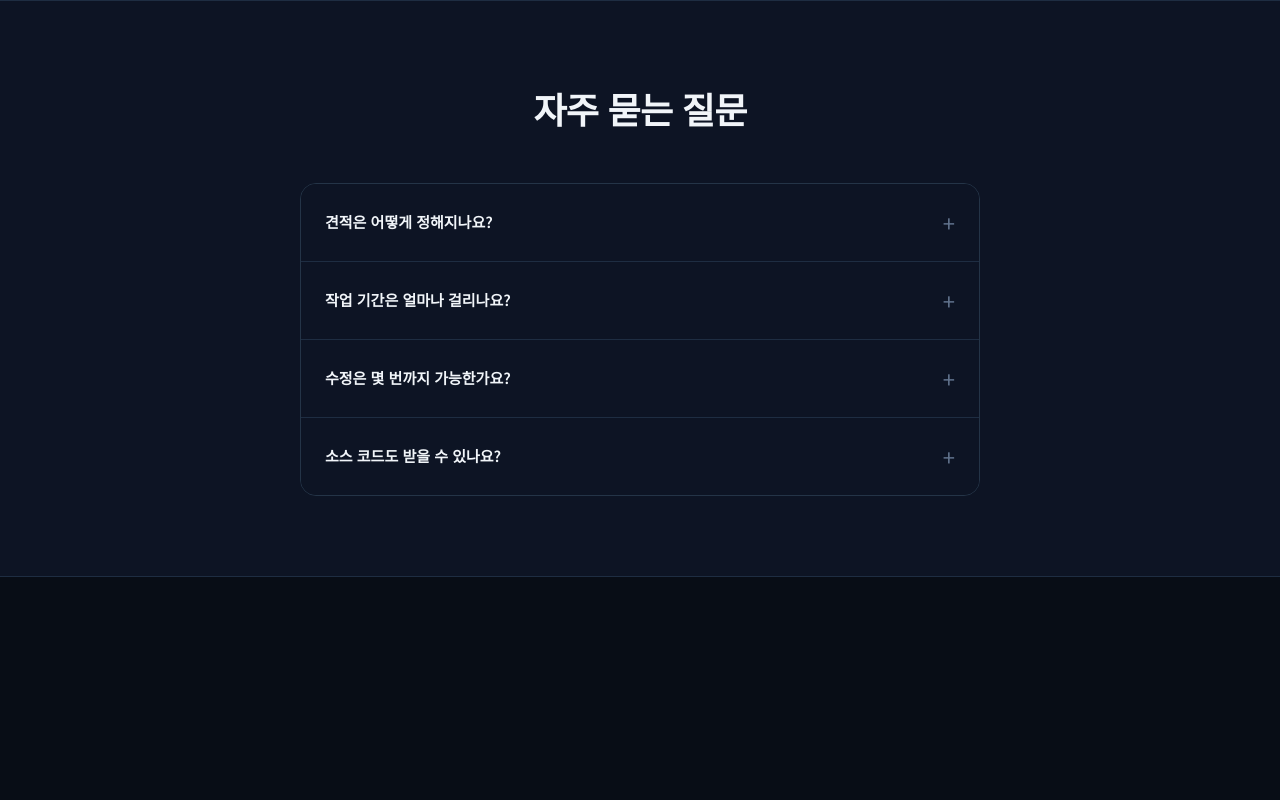
it: FaqSection › 다른 질문을 열면 이전 질문은 닫힌다
Click the text "견적은 어떻게 정해지나요?" at (409, 223), box [325,211,493,234]
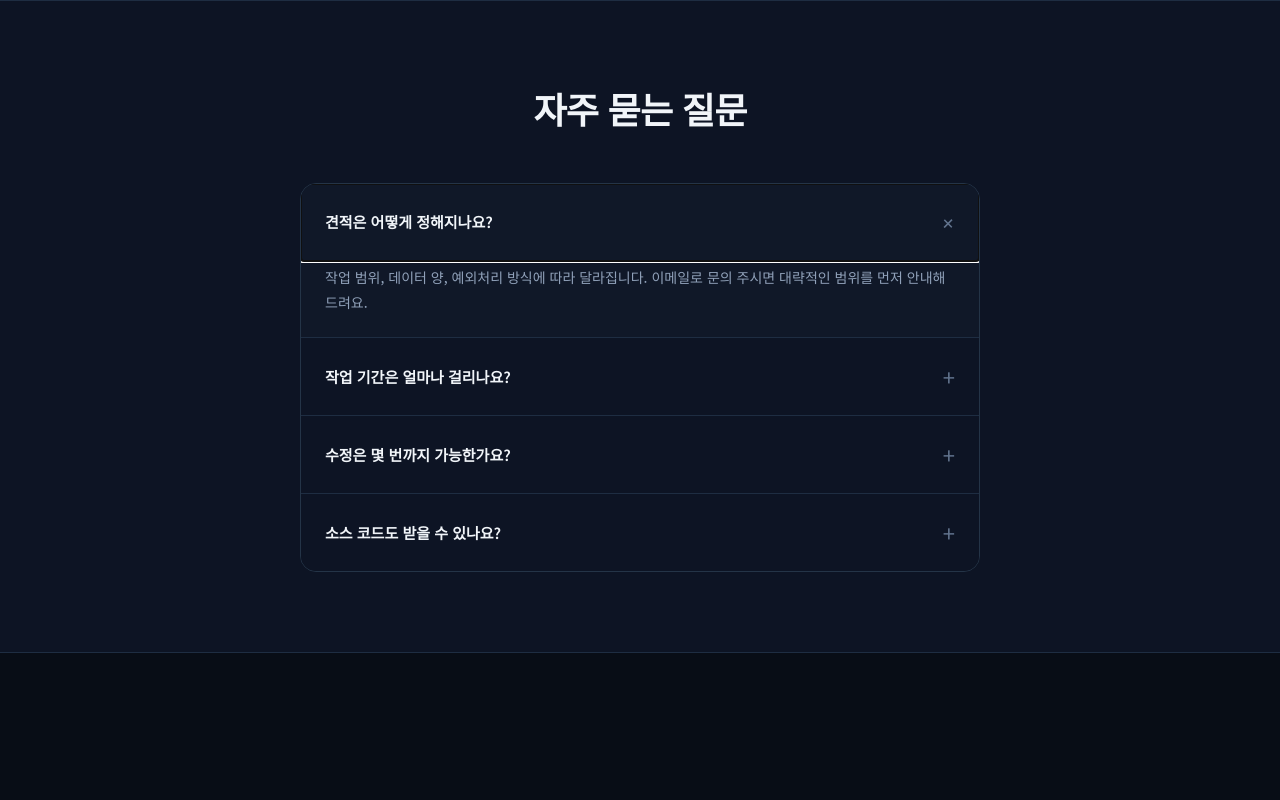
Now the text "작업 범위, 데이터 양, 예외처리 방식에 따라 달라집니다. 이메일로 문의 주시면 대략적인 범위를 먼저 안내해드려요." is shown, box [325,265,955,315]
Click the text "작업 기간은 얼마나 걸리나요?" at (418, 377), box [325,366,511,388]
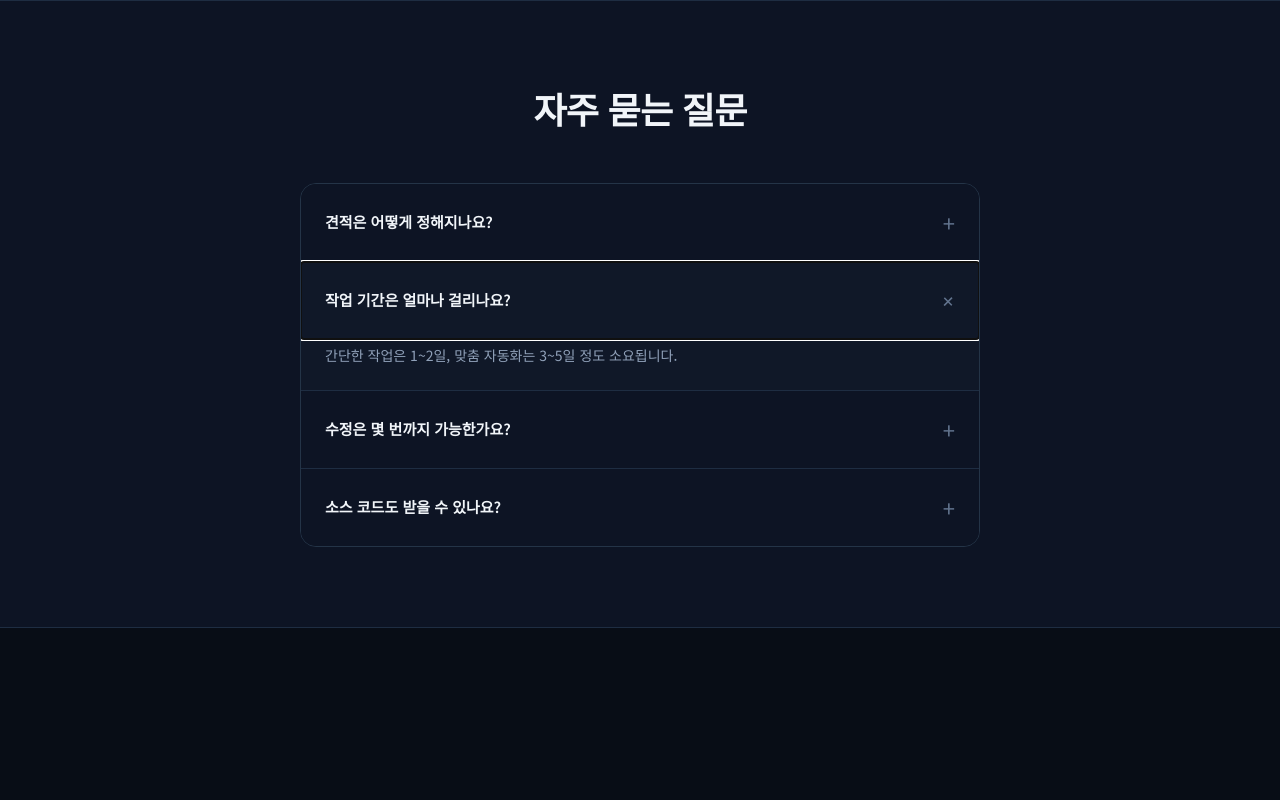
Now the text "작업 범위, 데이터 양, 예외처리 방식에 따라 달라집니다. 이메일로 문의 주시면 대략적인 범위를 먼저 안내해드려요." is gone
Now the text "간단한 작업은 1~2일, 맞춤 자동화는 3~5일 정도 소요됩니다." is shown, box [325,345,677,365]
